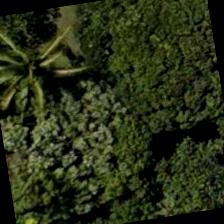Kelapa_Sawit: (0, 28, 78, 130)
